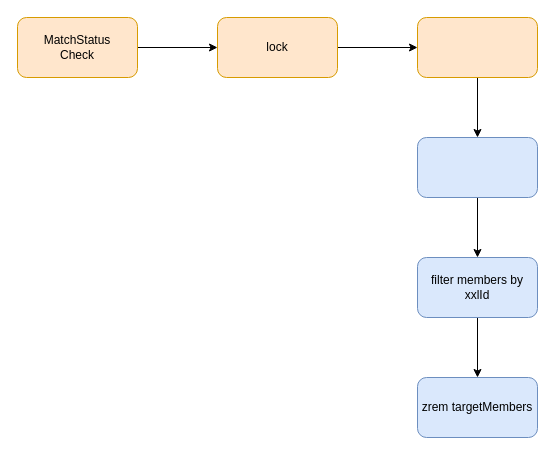
Some shapes in this 555 by 455 pixel diagram are drawn without their labels. Each missing label, with the box of its shape:
batchload members from zset: (416, 136, 538, 198)
deQueueFromZset: (416, 16, 538, 78)
